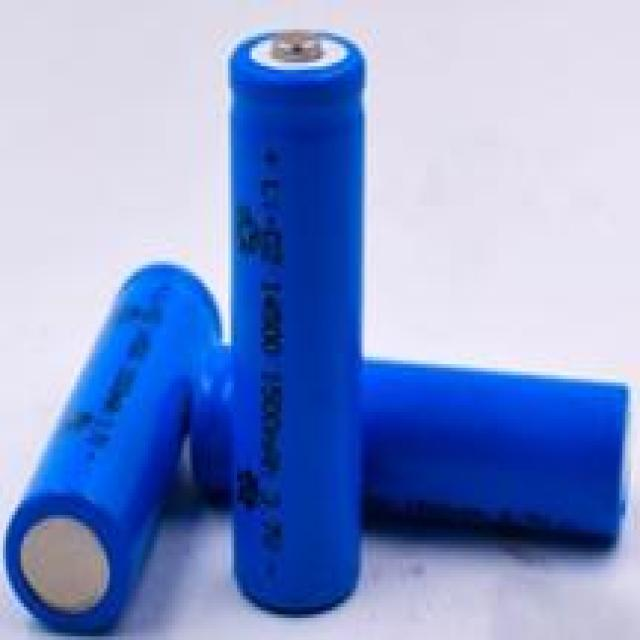-Hazardous waste - battery-: (186, 342, 631, 549), (218, 27, 363, 615), (6, 258, 222, 638)
